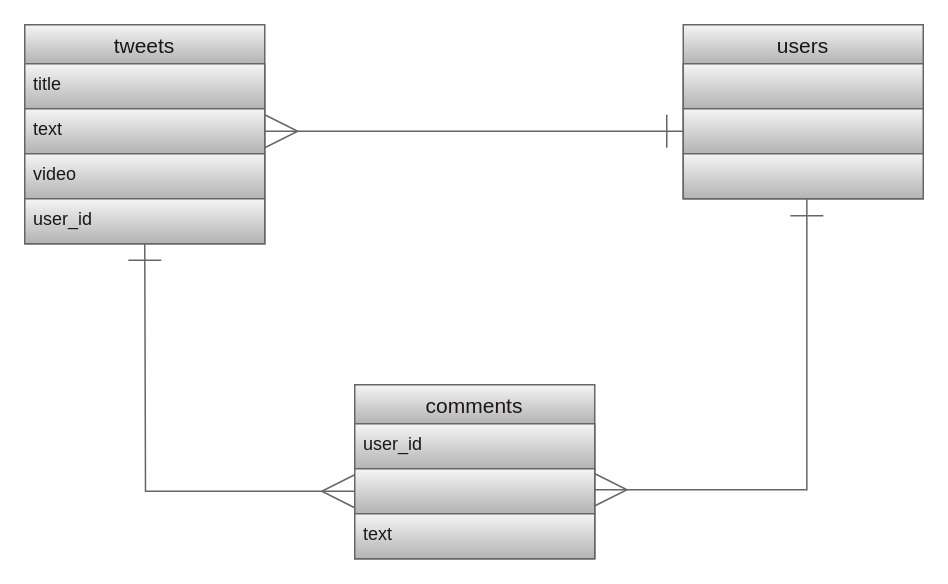
The diagram is 948 pixels wide and 584 high, and some of its shapes have lost their labels. Here are the shapes that lost their labels. From the top down, the centre of each, then its label:
At pixel 802 85: "nickname".
At pixel 802 130: "email".
At pixel 802 175: "password".
At pixel 474 490: "tweet_id".
